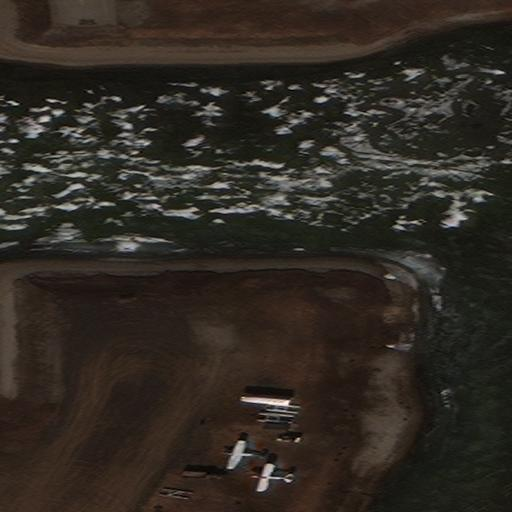Small Civil Transport: (219, 439, 267, 469), (250, 462, 295, 491)
